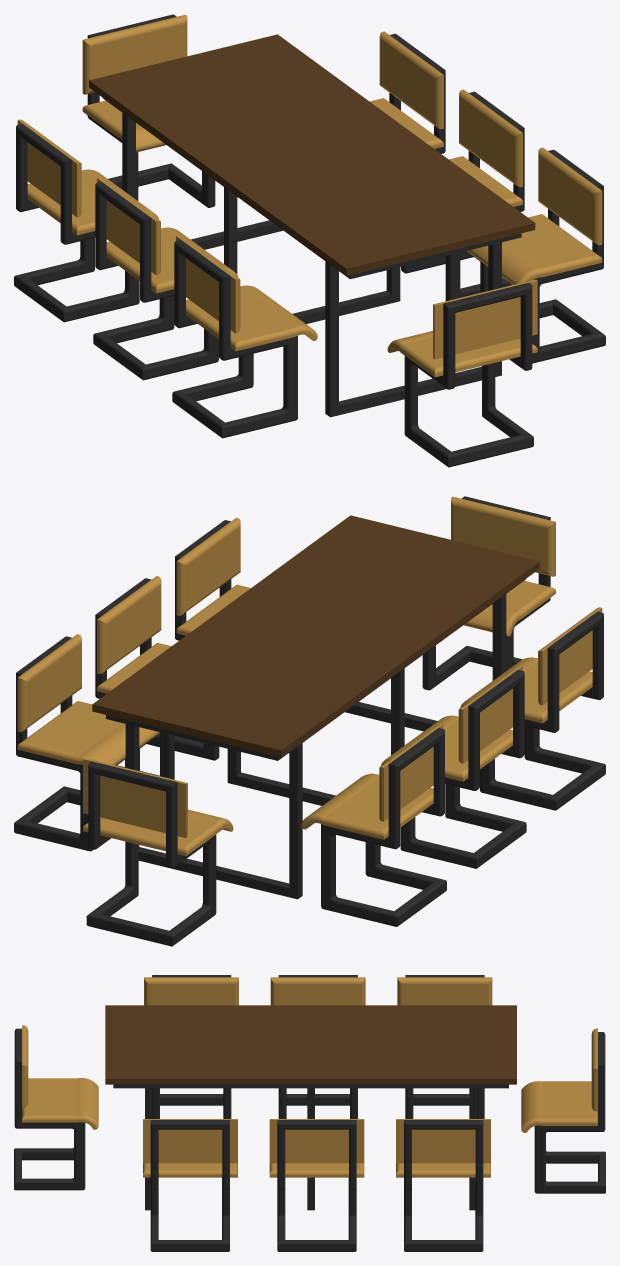
The model's file is Meeting table 1.fbx.
3 views of the same model, one above another, from view 1: azimuth 30°, elevation 25°; view 2: azimuth 150°, elevation 25°; view 3: azimuth 270°, elevation 25° (orthographic). The views are drawn at different scales.
Parts seen in each view (by area): view 1: Body1 (×9), Body2 (×9), Body3 (×8); view 2: Body1 (×9), Body2 (×9), Body3 (×8); view 3: Body1 (×9), Body2 (×9), Body3 (×5).
Boxes of the visible parts, left/top/right/bottom form: Body1 (×9): left=14, top=14, right=605, bottom=467; Body2 (×9): left=17, top=14, right=602, bottom=417; Body3 (×8): left=27, top=98, right=602, bottom=377; Body1 (×9): left=14, top=496, right=605, bottom=946; Body2 (×9): left=17, top=496, right=602, bottom=899; Body3 (×8): left=17, top=580, right=592, bottom=855; Body1 (×9): left=14, top=975, right=605, bottom=1251; Body2 (×9): left=22, top=977, right=597, bottom=1210; Body3 (×5): left=22, top=1078, right=597, bottom=1177.
Bounding box in the file's own units: 2234 × 941 × 3739.
